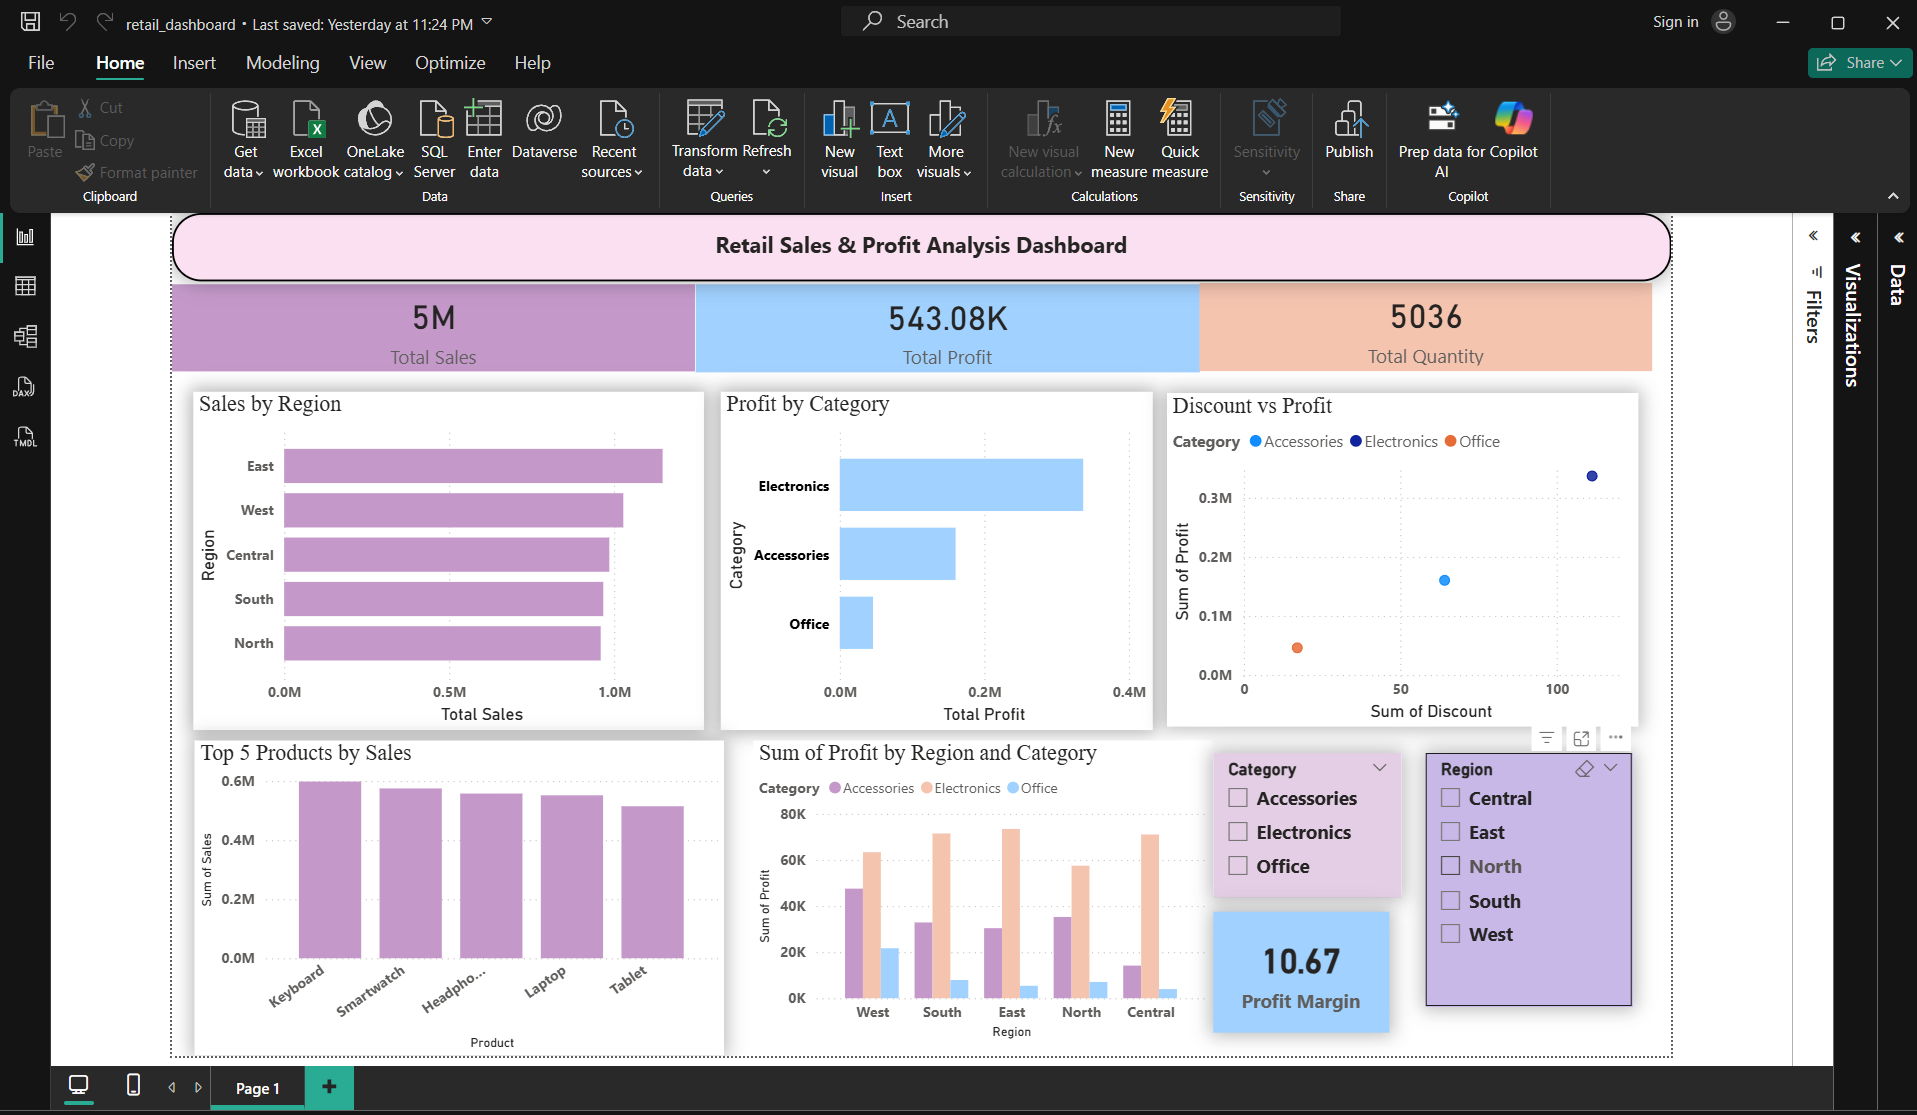

The page's visual inventory and layout, read from the dashboard file:
{"tool":"powerbi","page":{"name":"Page 1","canvas":[1280,720],"ordinal":0},"visuals":[{"type":"card","fields":{"Values":["clean_retail_dataset.Total Profit"]},"box":[446.7,61.1,430,75.6],"z":0},{"type":"card","fields":{"Values":["clean_retail_dataset.Total Quantity"]},"box":[876.7,60,386.7,75],"z":1000},{"type":"card","fields":{"Values":["clean_retail_dataset.Total Sales"]},"box":[0,61.1,446.7,74.4],"z":2000},{"type":"clusteredBarChart","title":"Sales by Region","fields":{"Category":["clean_retail_dataset.Region"],"Y":["clean_retail_dataset.Total Sales"]},"box":[18.6,152.9,435.7,288.6],"z":2001},{"type":"clusteredBarChart","title":"Profit by Category","fields":{"Category":["clean_retail_dataset.Category"],"Y":["clean_retail_dataset.Total Profit"]},"box":[468.6,152.9,368.6,288.6],"z":2002},{"type":"scatterChart","title":"Discount vs Profit","fields":{"X":["Sum(clean_retail_dataset.Discount)"],"Series":["clean_retail_dataset.Category"],"Y":["Sum(clean_retail_dataset.Profit)"]},"box":[848.9,153.3,402.2,284.4],"z":2003},{"type":"clusteredColumnChart","title":"Top 5 Products by Sales","fields":{"Category":["clean_retail_dataset.Product"],"Y":["Sum(clean_retail_dataset.Sales)"]},"box":[18.9,450,452.2,268.9],"z":2004},{"type":"clusteredColumnChart","fields":{"Category":["clean_retail_dataset.Region"],"Series":["clean_retail_dataset.Category"],"Y":["Sum(clean_retail_dataset.Profit)"]},"box":[496.7,450,392.2,260],"z":2005},{"type":"slicer","fields":{"Values":["clean_retail_dataset.Category"]},"box":[888.9,461.1,161.1,123.3],"z":2006},{"type":"textbox","box":[0,0,1280.2,58.1],"z":2007},{"type":"slicer","fields":{"Values":["clean_retail_dataset.Region"]},"box":[1070,461.1,176.7,216.7],"z":2008},{"type":"card","fields":{"Values":["clean_retail_dataset.Profit Margin"]},"box":[888.9,596.7,150,103.3],"z":2009}]}

Visuals, with their boxes on the page's 1280x720 design canvas (x1, y1, x2, y2). These are canvas units, not pixel positions in the 1917x1115 screenshot, which may show the page scaled, cropped or inside an application window:
card - clean_retail_dataset.Total Profit: crop(447, 61, 877, 137)
card - clean_retail_dataset.Total Quantity: crop(877, 60, 1263, 135)
card - clean_retail_dataset.Total Sales: crop(0, 61, 447, 136)
"Sales by Region" clusteredBarChart: crop(19, 153, 454, 442)
"Profit by Category" clusteredBarChart: crop(469, 153, 837, 442)
"Discount vs Profit" scatterChart: crop(849, 153, 1251, 438)
"Top 5 Products by Sales" clusteredColumnChart: crop(19, 450, 471, 719)
clusteredColumnChart - clean_retail_dataset.Region x clean_retail_dataset.Category: crop(497, 450, 889, 710)
slicer - clean_retail_dataset.Category: crop(889, 461, 1050, 584)
textbox: crop(0, 0, 1280, 58)
slicer - clean_retail_dataset.Region: crop(1070, 461, 1247, 678)
card - clean_retail_dataset.Profit Margin: crop(889, 597, 1039, 700)
